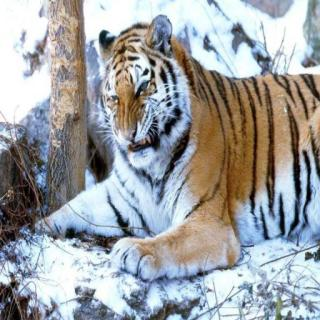Tiger: (28, 18, 320, 283)
